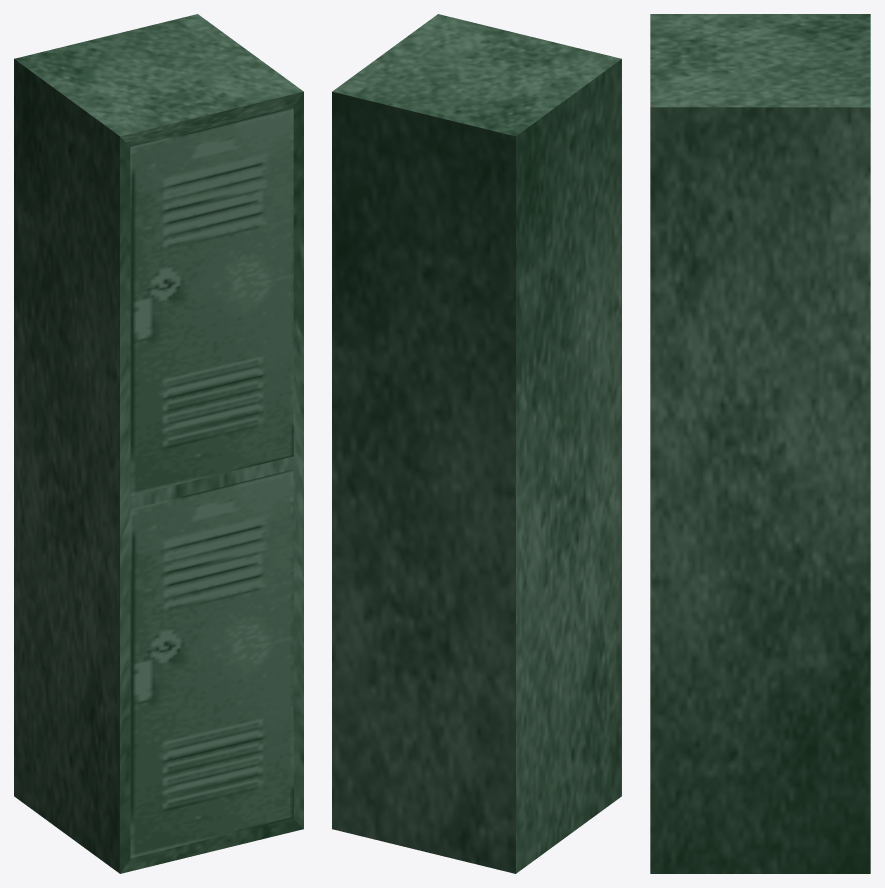
Rendered from Armário2.obj.
The picture shows the model from 3 angles, left to right: view 1: azimuth 30°, elevation 25°; view 2: azimuth 150°, elevation 25°; view 3: azimuth 270°, elevation 25°; orthographic projection. The views are drawn at different scales.
Parts seen in each view (by area): view 1: Cube, Plane; view 2: Cube; view 3: Cube.
Boxes of the visible parts, box(x1,y1,x2,y2) form: Cube: box(14, 14, 303, 873); Plane: box(130, 107, 293, 858); Cube: box(332, 14, 621, 873); Cube: box(650, 14, 870, 873).
Size of the model in its own units: 2 by 7.67 by 2.
